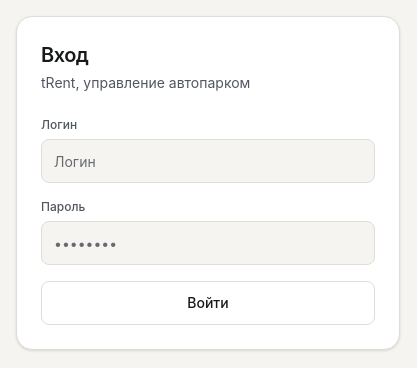
Test case: LoginPage › uses design-system theme tokens, neutral username placeholder, and keeps submit disabled on redirect
Type "admin" into the field labelled "Логин" at (208, 161), box [41,139,375,183]
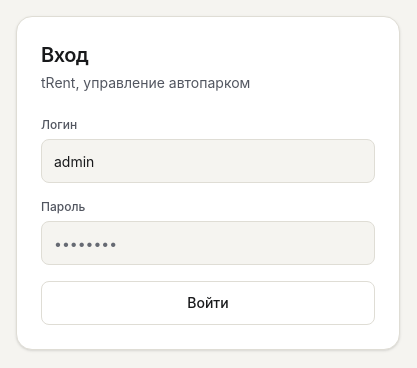
Type "admin123" into the password field labelled "Пароль" at (208, 243), box [41,221,375,265]
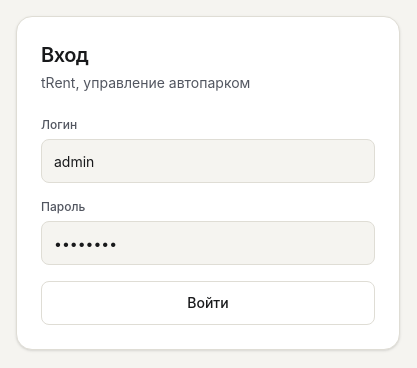
Click the button "Войти" at (208, 303), box [41,281,375,325]
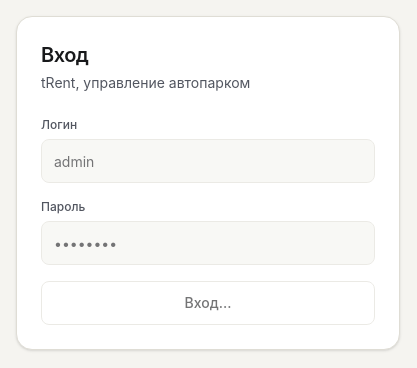
Now the button named "Войти" is disabled, box [41,281,375,325]
